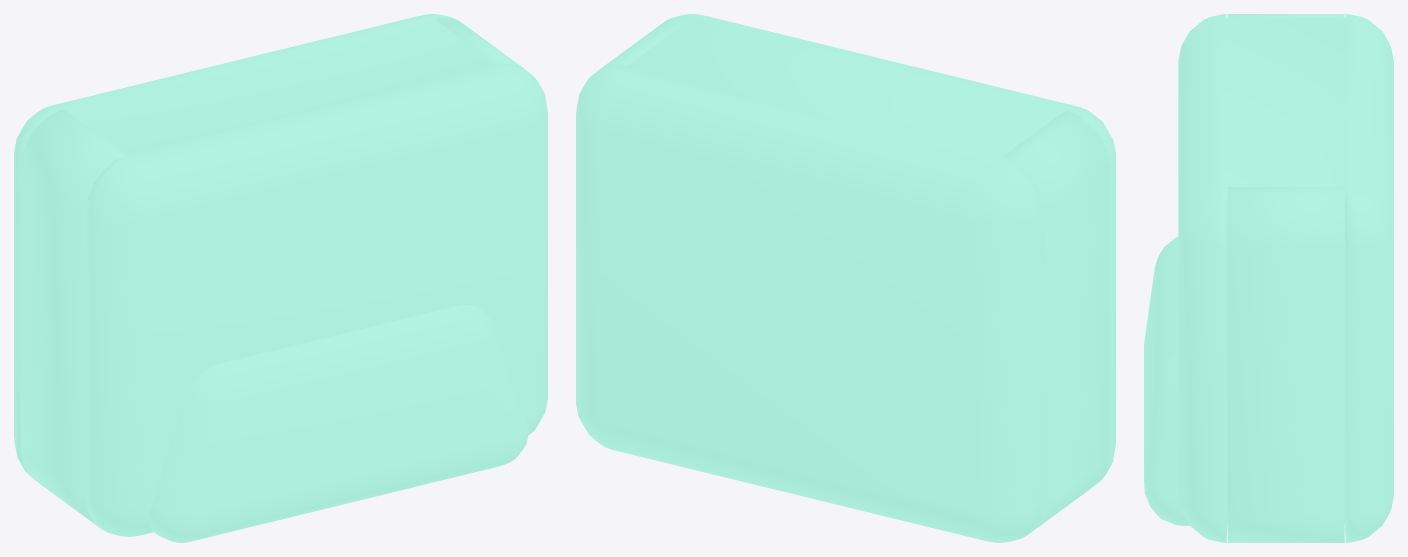
The model's file is outline2_1.glb.
3 views of the same model, side by side, from view 1: azimuth 30°, elevation 25°; view 2: azimuth 150°, elevation 25°; view 3: azimuth 270°, elevation 25° (orthographic). The views are drawn at different scales.
Visible parts, largest first — view 1: head.001; view 2: head.001; view 3: head.001.
Boxes of the visible parts, bbox=[...] form: head.001: bbox=[14, 14, 547, 542]; head.001: bbox=[576, 14, 1115, 542]; head.001: bbox=[1144, 14, 1393, 542].
Bounding box in the file's own units: 2.2 × 1.74 × 1.11.
